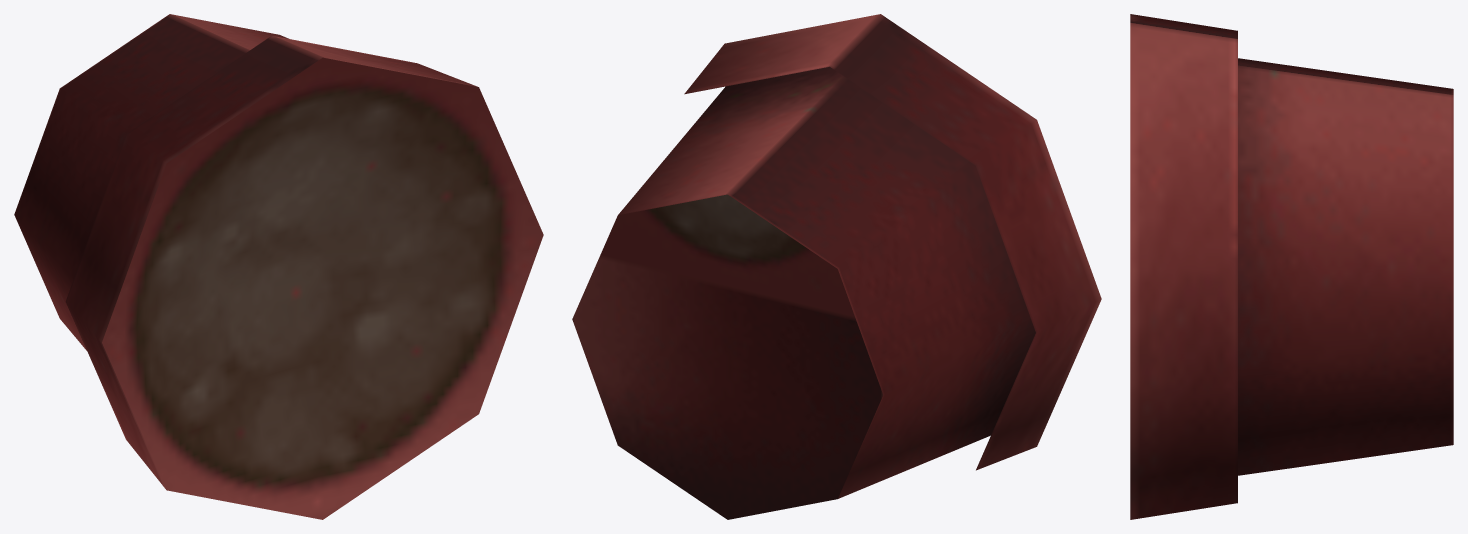
The model's file is plant_pot_red.glb.
3 renders of one model, left to right at view 1: azimuth 30°, elevation 25°; view 2: azimuth 150°, elevation 25°; view 3: azimuth 270°, elevation 25°, orthographic. The views are drawn at different scales.
Parts seen in each view (by area): view 1: houseplants.plant_pot_red-Mesh[0]; view 2: houseplants.plant_pot_red-Mesh[0]; view 3: houseplants.plant_pot_red-Mesh[0].
Boxes of the visible parts, x1,y1,x2,y2 form: houseplants.plant_pot_red-Mesh[0]: [14, 14, 543, 519]; houseplants.plant_pot_red-Mesh[0]: [572, 14, 1101, 519]; houseplants.plant_pot_red-Mesh[0]: [1130, 14, 1453, 519].
Size of the model in its own units: 1 by 1 by 0.6.
Materials: 1 (1 with a texture image).
